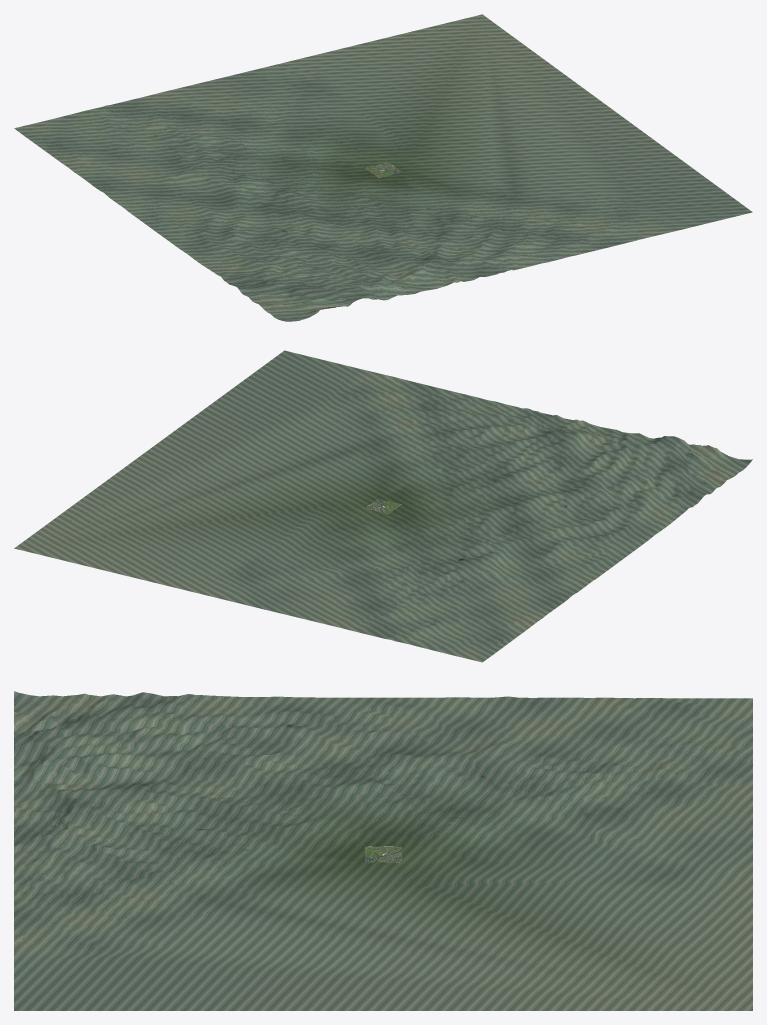
The model's file is people_first_backdrop_part1.glb.
3 renders of one model, top to bottom at view 1: azimuth 30°, elevation 25°; view 2: azimuth 150°, elevation 25°; view 3: azimuth 270°, elevation 25°, orthographic. The views are drawn at different scales.
Visible parts, largest first — view 1: bg_far_terrain; view 2: bg_far_terrain; view 3: bg_far_terrain, bg_near_ground.
Part boxes in pixels (x1,y1,x2,y2): bg_far_terrain: [14, 14, 752, 321]; bg_far_terrain: [14, 350, 752, 662]; bg_far_terrain: [14, 691, 752, 1010]; bg_near_ground: [365, 846, 401, 862].
Bounding box in the file's own units: 60004 × 1196 × 60010.
Materials: 25 (20 with a texture image).
